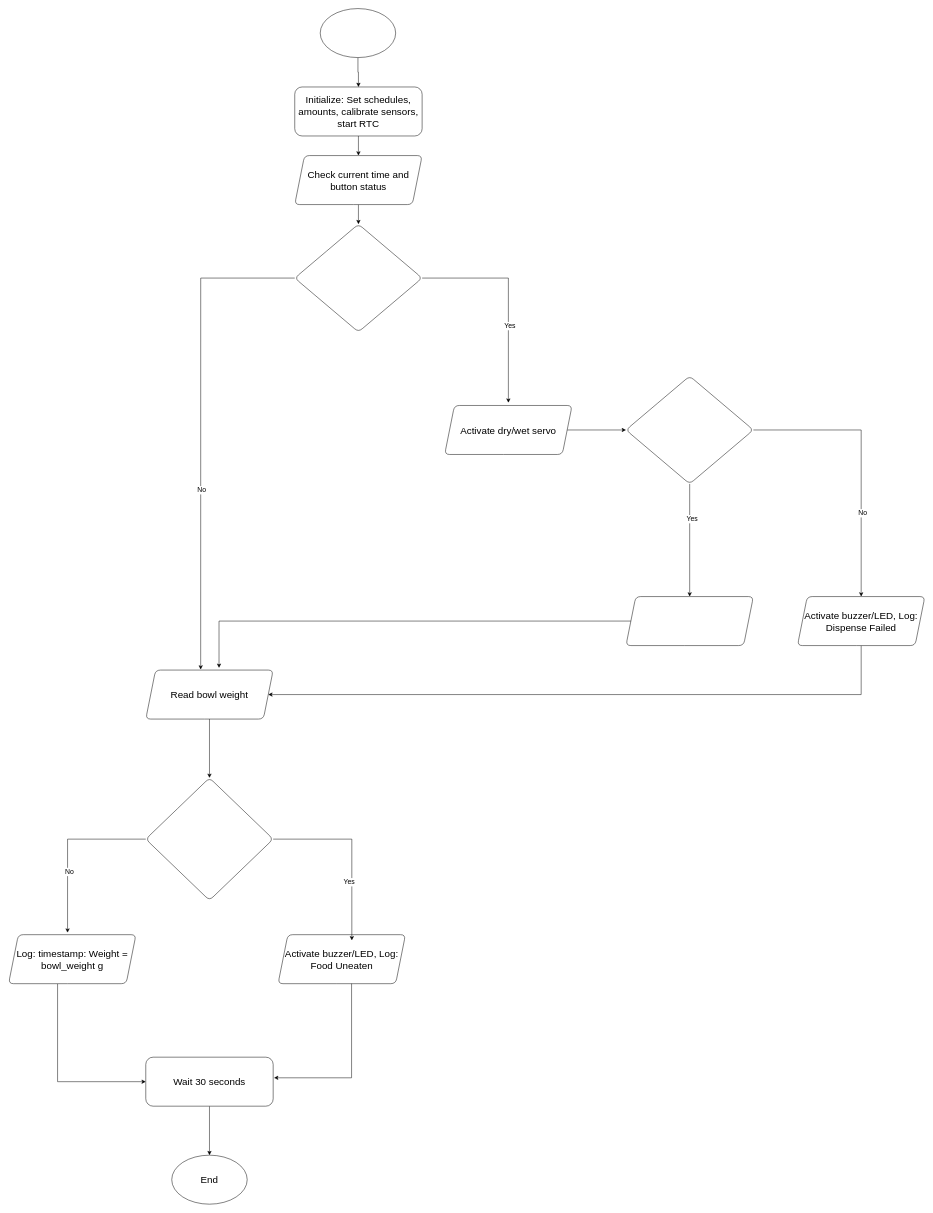
Some shapes in this 933 by 1213 pixel diagram are drawn without their labels. Each missing label, with the centre of its shape:
"Dispense successful?" belongs at [689,430].
"last_feed_time + 2h < current time and bowl_weight > 10g?" belongs at [209,838].
"Log: timestamp: Dispensed food type, amount g, Set last_feed_time" belongs at [689,621].
"Start" belongs at [358,33].
"Time to feed or button pressed?" belongs at [358,278].
